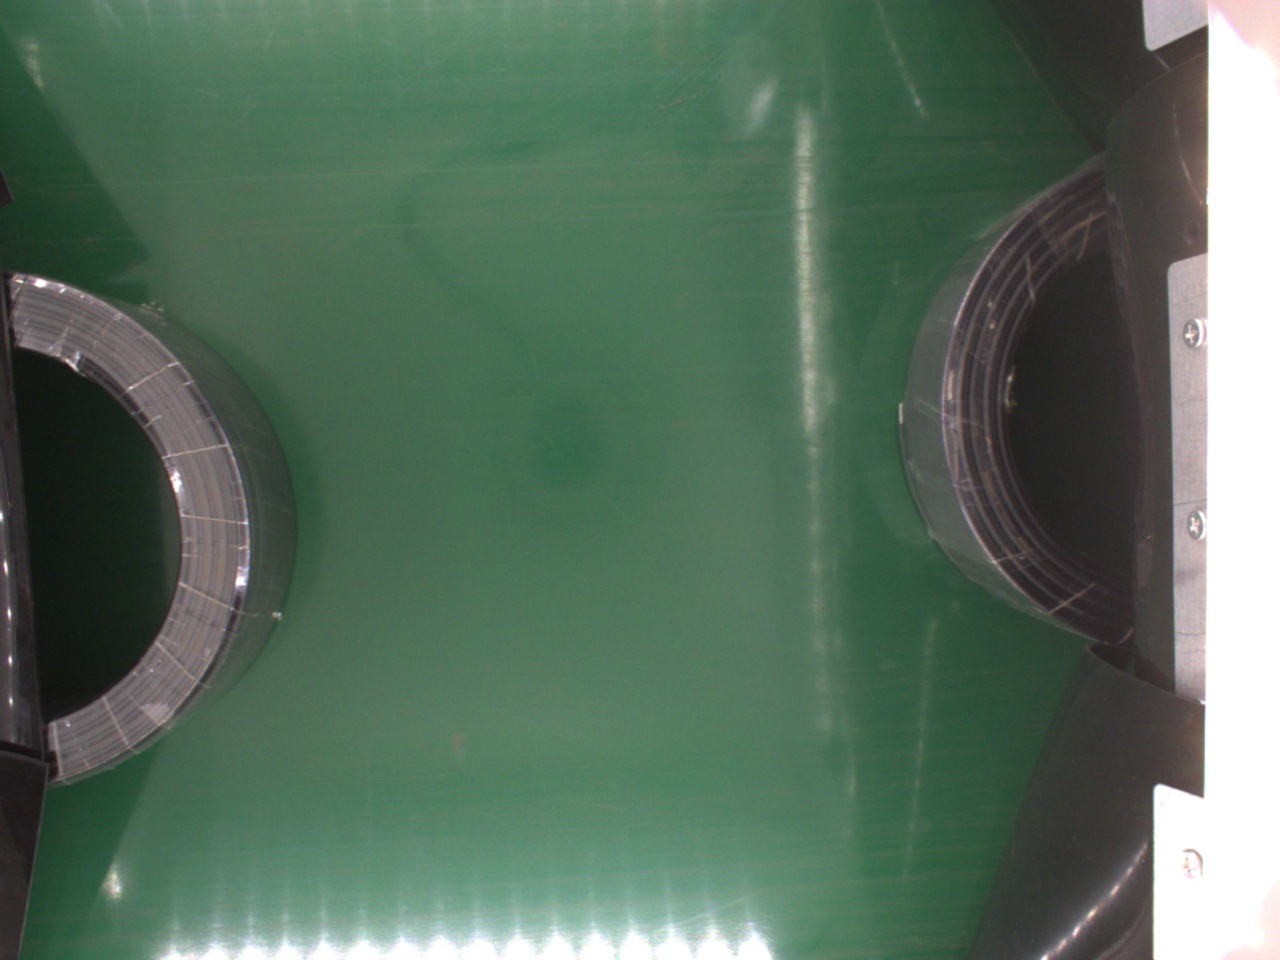black: (9, 274, 295, 772), (905, 160, 1150, 654)
